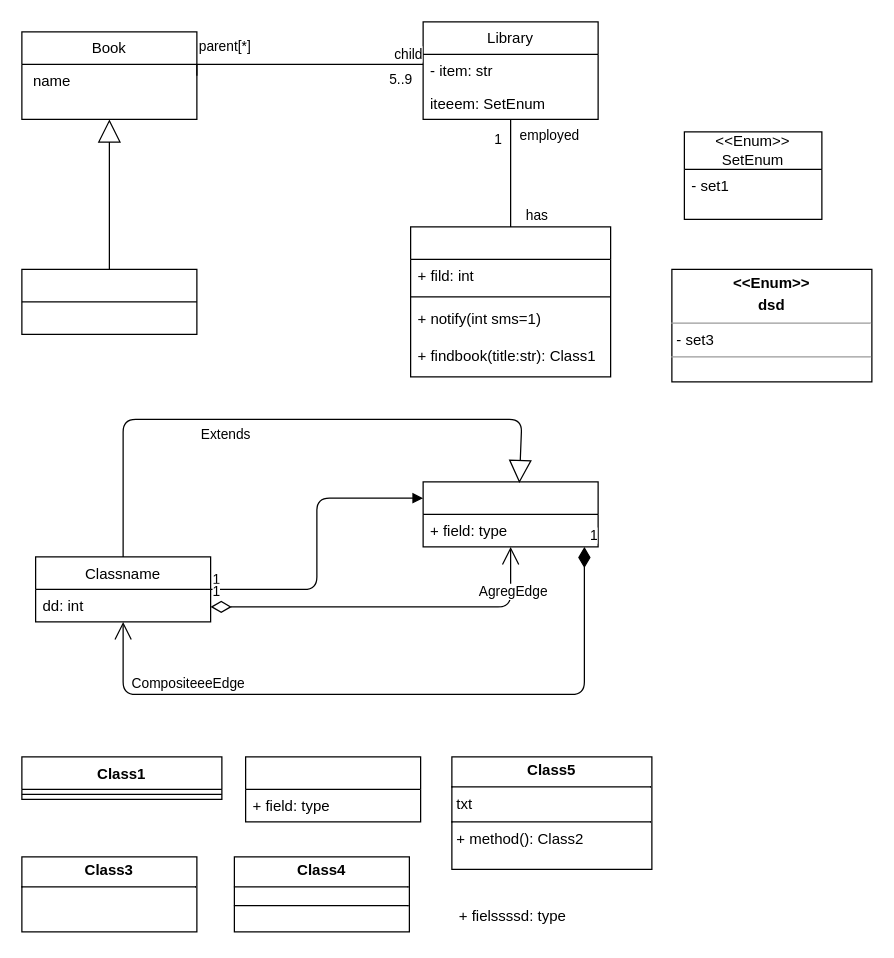
Image size: 894x958. Some labels were removed from this diagram. Here are the shapes that lost their labels. From the top down, the box of each, then its label:
(21, 268, 197, 334): Cartoon
(409, 226, 611, 377): Worker
(422, 481, 598, 547): dfg
(244, 756, 421, 822): Class2
